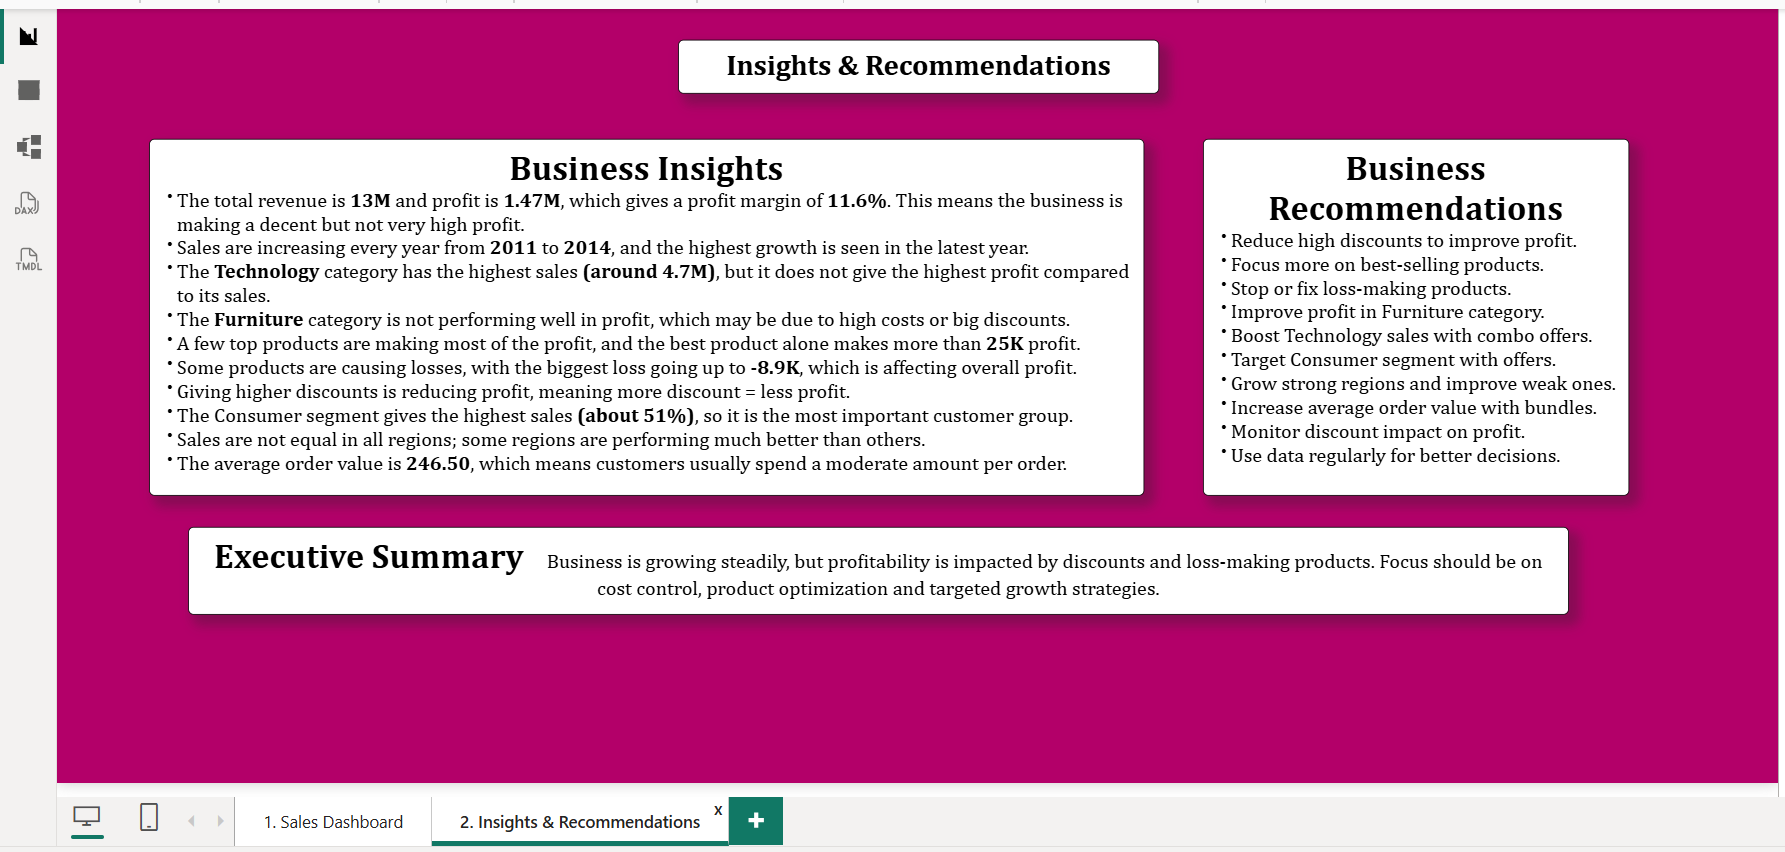

The dashboard page shown, as its layout file describes it:
{"tool":"powerbi","page":{"name":"2. Insights & Recommendations","canvas":[1600,720],"ordinal":1},"visuals":[{"type":"textbox","box":[576.8,28,447.3,50],"z":0},{"type":"textbox","box":[85,120.7,924.6,331.4],"z":1000},{"type":"textbox","box":[1065.7,120.7,396,331.4],"z":2000},{"type":"textbox","box":[122.4,481,1283.2,81.6],"z":3000}]}

Visuals, with their boxes on the page's 1600x720 design canvas (x1, y1, x2, y2). These are canvas units, not pixel positions in the 1785x852 screenshot, which may show the page scaled, cropped or inside an application window:
textbox: (577, 28, 1024, 78)
textbox: (85, 121, 1010, 452)
textbox: (1066, 121, 1462, 452)
textbox: (122, 481, 1406, 563)
